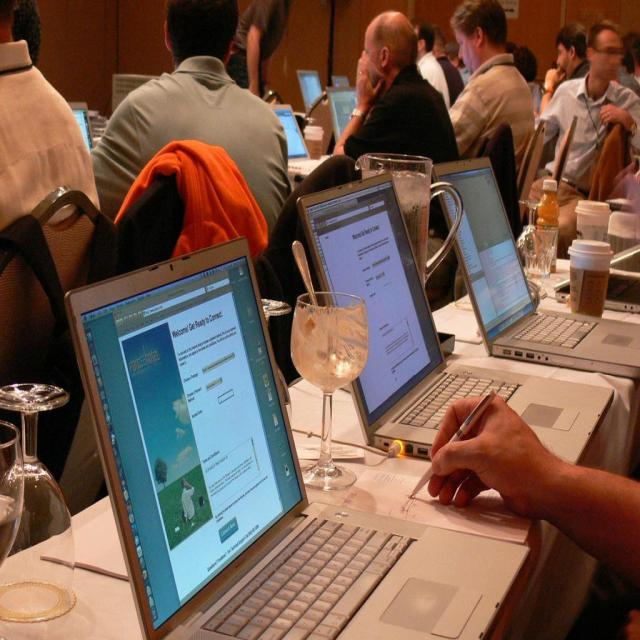glass: (1, 378, 73, 617), (290, 292, 368, 490)
laptop: (69, 250, 486, 630)
